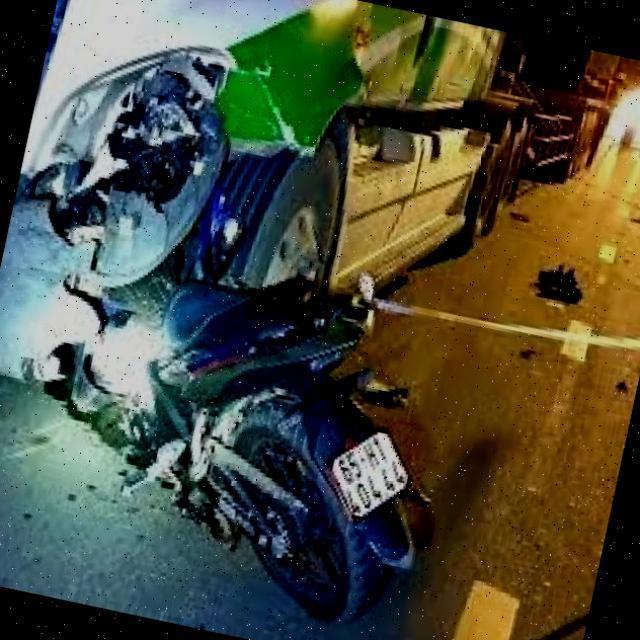accident: (0, 4, 554, 640)
